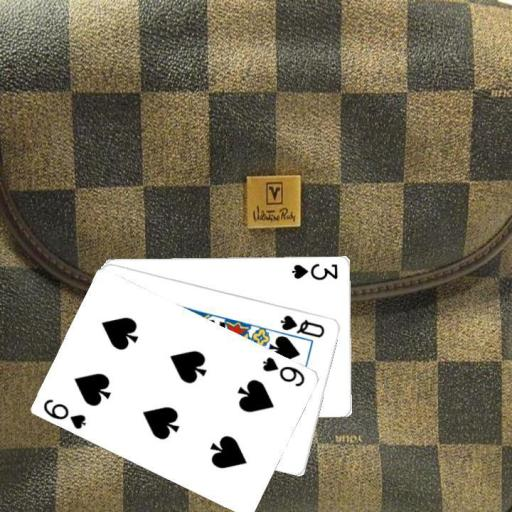3S: (289, 259, 340, 281)
6S: (41, 395, 88, 431), (260, 354, 307, 389)
QS: (278, 312, 327, 339)
